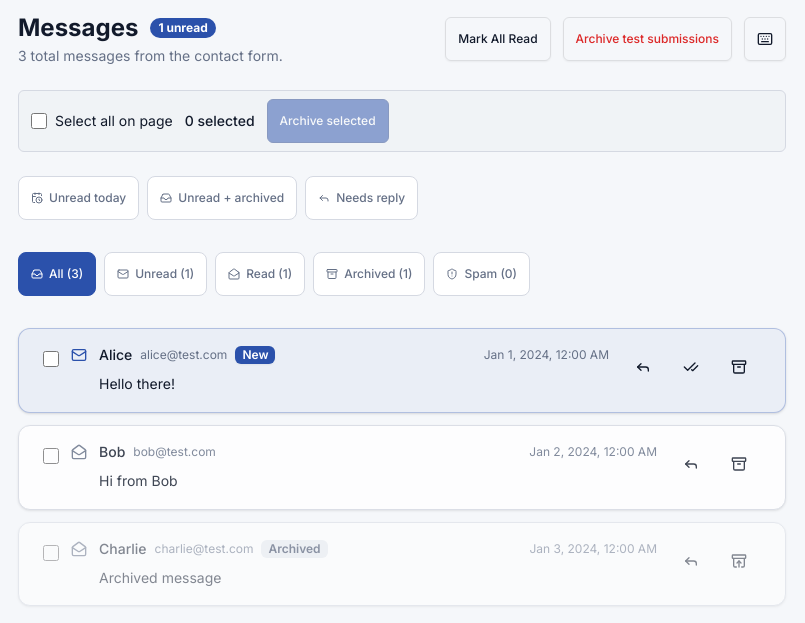
MessagesViewer › bulk-archives selected messages
Check: the text "Alice" is shown, box [99,345,132,365]
Click the checkbox named "Select message from Alice".
click(51, 359)  # box [43,351,59,367]
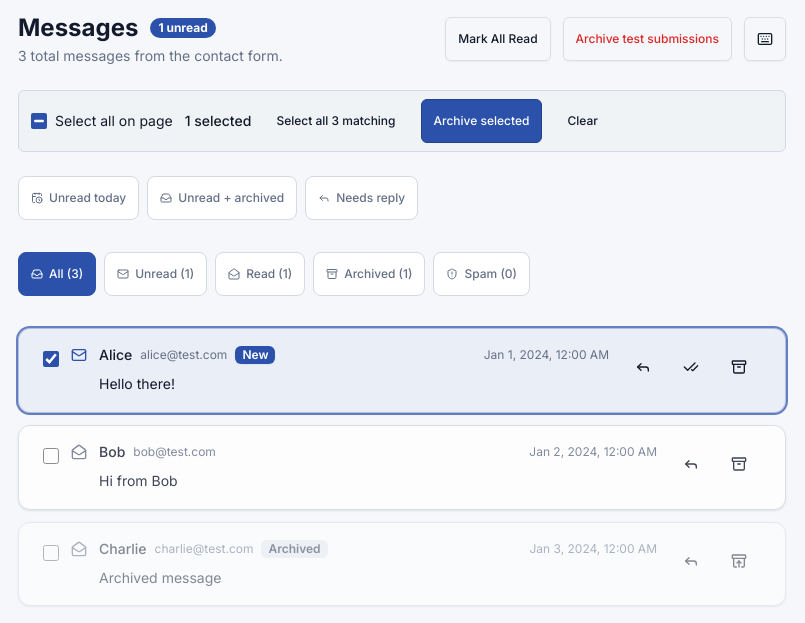
Click the checkbox named "Select message from Bob".
click(51, 456)  # box [43,448,59,464]
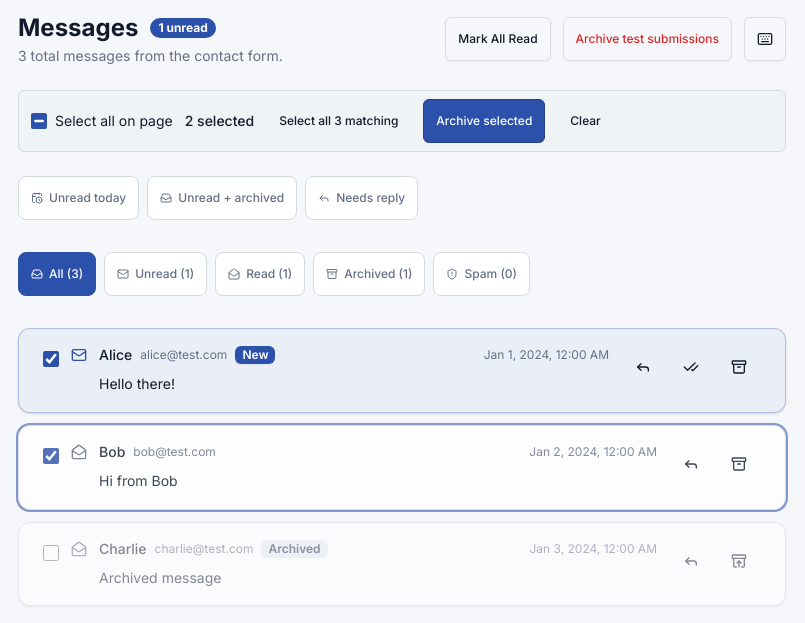
Check: the text "2 selected" is shown, box [185,111,254,131]
Click the button "Archive selected".
click(484, 121)  # box [423,99,545,143]
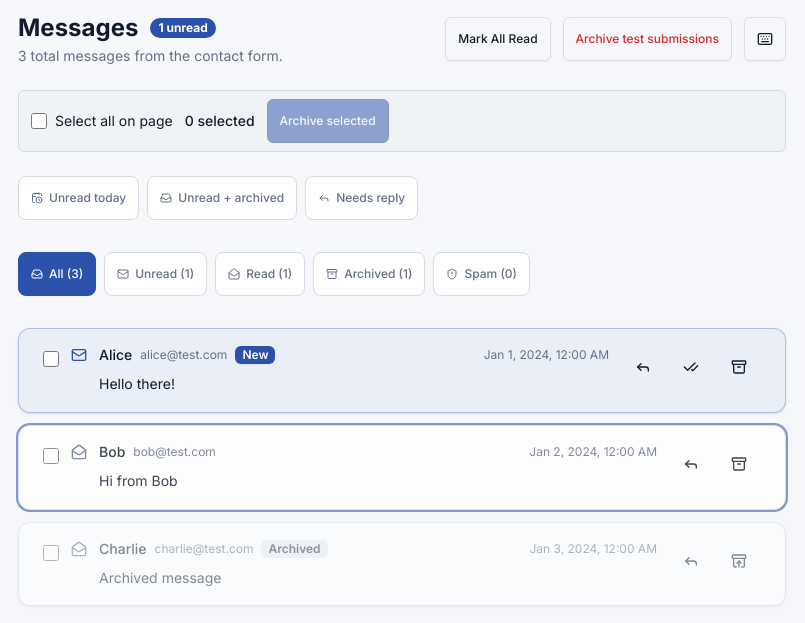
Check: the text "2 selected" is gone
